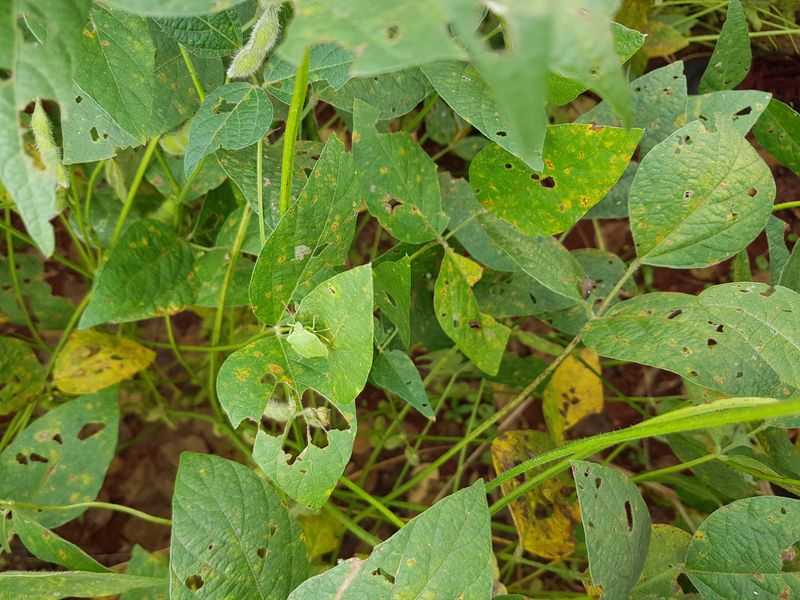Euschistus_heros_adulto: (569, 269, 603, 304)
Nezara_viridula_adulto: (270, 299, 339, 372)
